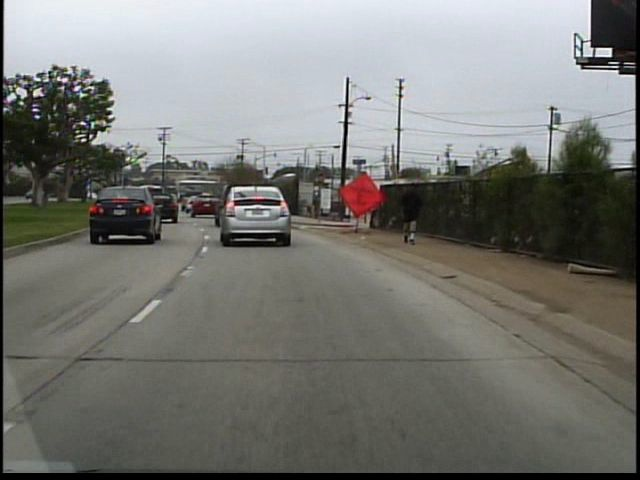person: (397, 176, 430, 250)
